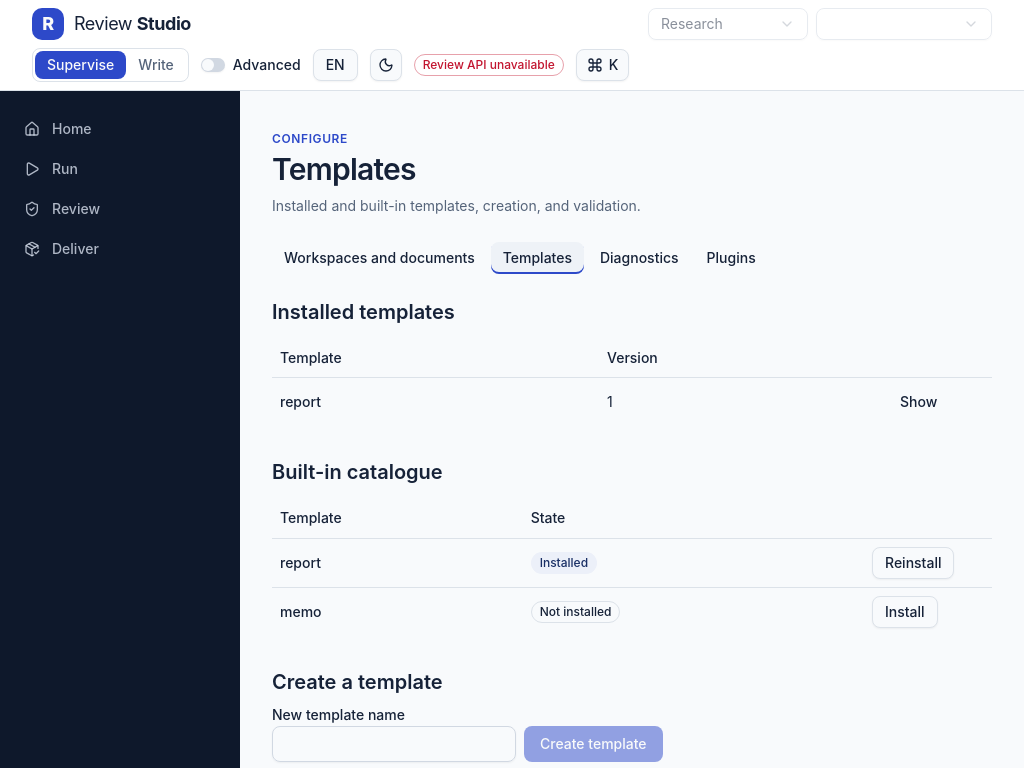
template editor › installs a built-in template without forcing
Click the button with aria-label "Install memo": (905, 612) [872,596,938,628]
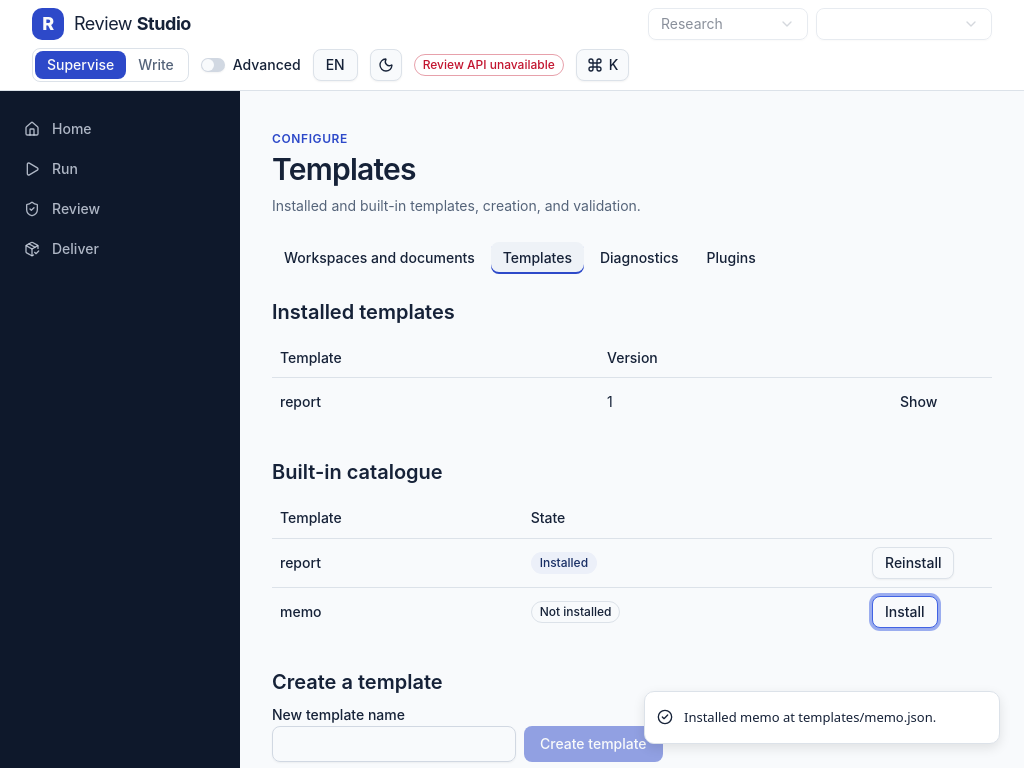
Check: the text "Installed memo at templates/memo.json." is shown, box [684,708,936,727]
